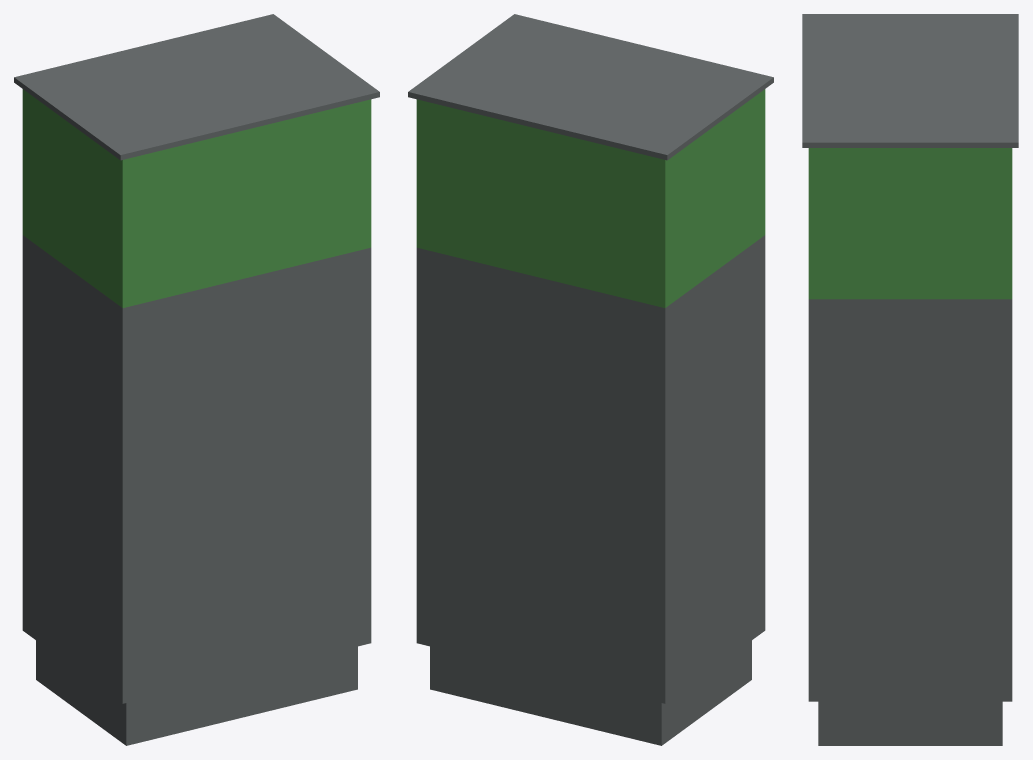
The model's file is SM_column_01.fbx.
The picture shows the model from 3 angles, left to right: view 1: azimuth 30°, elevation 25°; view 2: azimuth 150°, elevation 25°; view 3: azimuth 270°, elevation 25°; orthographic projection.
Visible parts, largest first — view 1: column_01; view 2: column_01; view 3: column_01.
Boxes of the visible parts, <box> form: column_01: <box>14,14,379,745</box>; column_01: <box>408,14,773,745</box>; column_01: <box>802,14,1018,745</box>.
Size of the model in its own units: 305 by 675 by 217.
